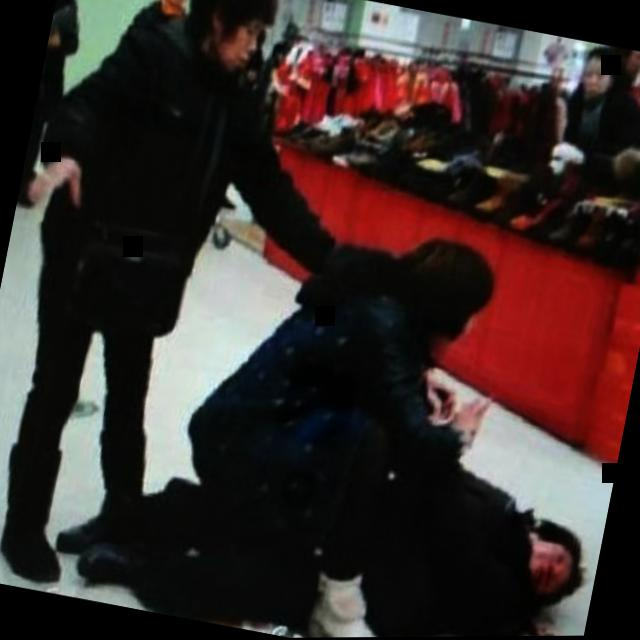Fall-Detected: (69, 348, 620, 640)
